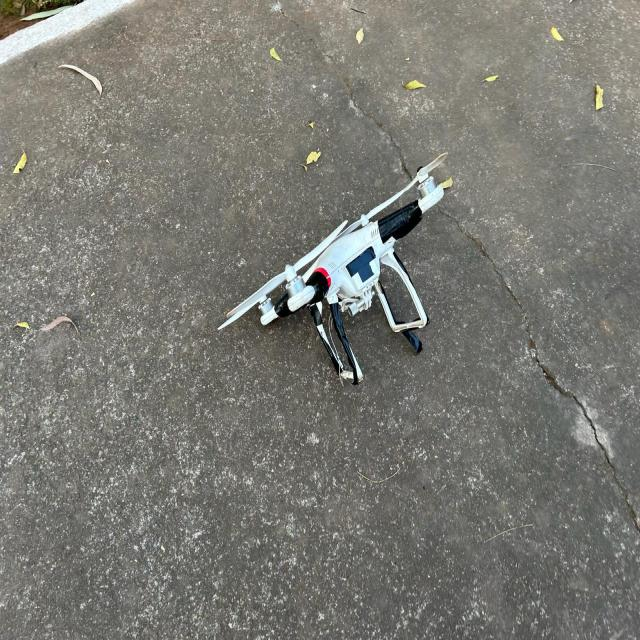drone: (219, 143, 456, 393)
